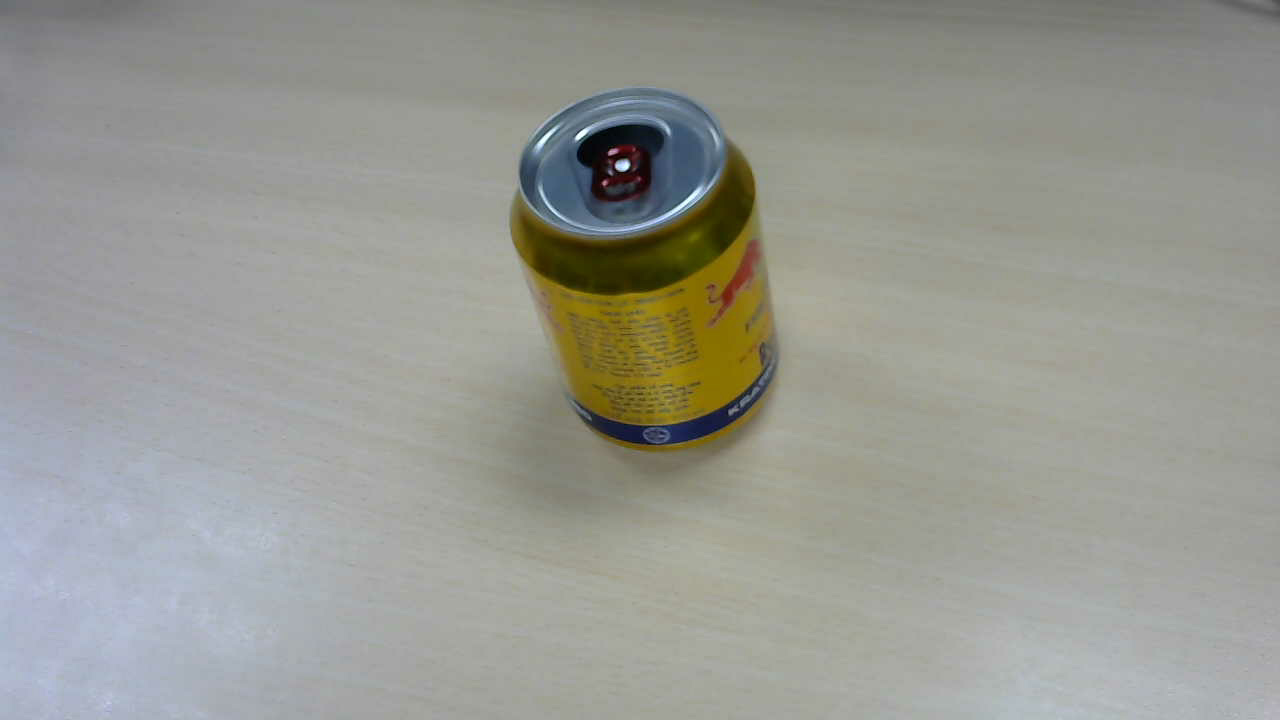Red_Bull: (515, 95, 789, 451)
